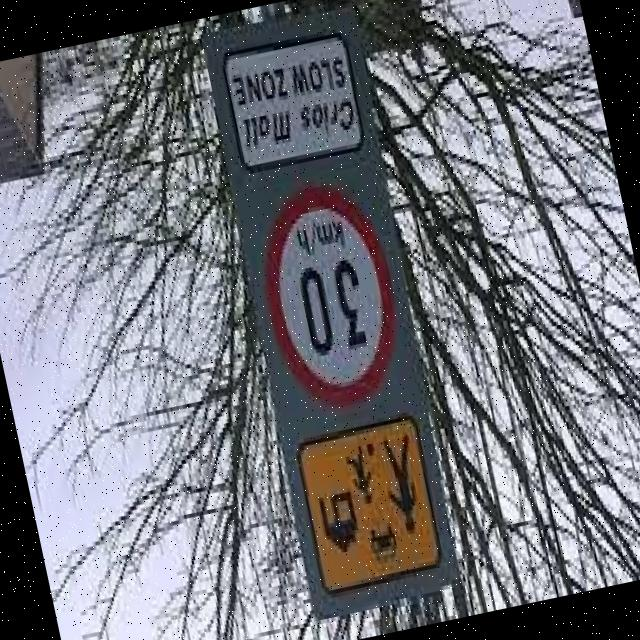speed_limit_30: (242, 174, 418, 425)
